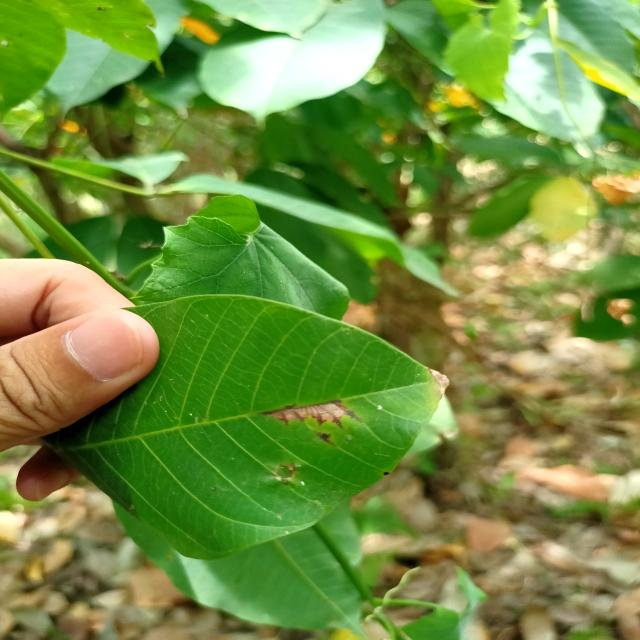Colletotrichum: (383, 472, 389, 476)
Corynespora: (259, 399, 364, 429), (314, 431, 334, 446)
